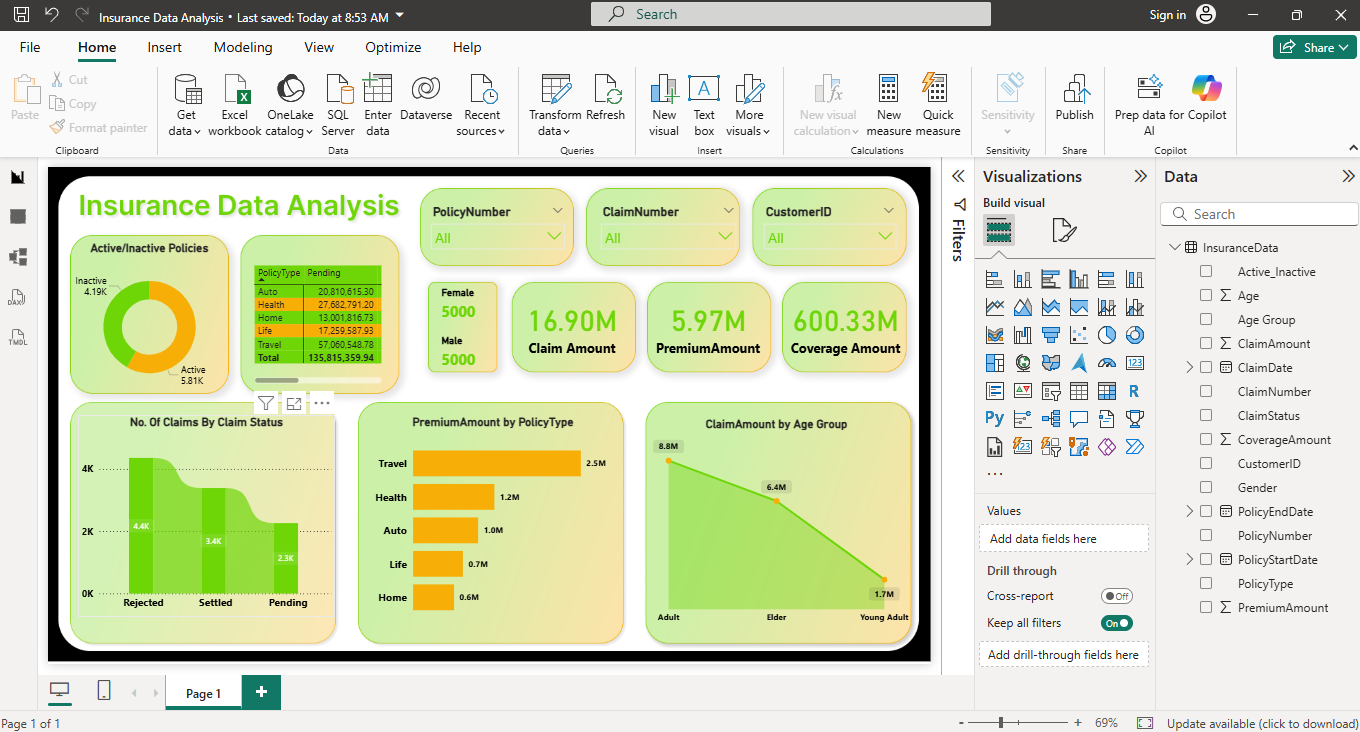

What the dashboard file says about the page in this screenshot:
{"tool":"powerbi","page":{"name":"Page 1","canvas":[1280,720],"ordinal":0},"visuals":[{"type":"slicer","fields":{"Values":["InsuranceData.PolicyNumber"]},"box":[544.9,49.3,214.5,69.6],"z":0},{"type":"slicer","fields":{"Values":["InsuranceData.ClaimNumber"]},"box":[791.3,49.3,215.9,69.6],"z":1000},{"type":"slicer","fields":{"Values":["InsuranceData.CustomerID"]},"box":[1027.5,49.3,211.6,69.6],"z":2000},{"type":"card","fields":{"Values":["Sum(InsuranceData.PremiumAmount)"]},"box":[869.6,171,173.9,118.8],"z":3000},{"type":"card","fields":{"Values":["Sum(InsuranceData.ClaimAmount)"]},"box":[673.9,171,171,118.8],"z":4000},{"type":"card","fields":{"Values":["Sum(InsuranceData.CoverageAmount)"]},"box":[1062.3,171,187,118.8],"z":5000},{"type":"ribbonChart","title":"No. Of  Claims By Claim Status","fields":{"Category":["InsuranceData.ClaimStatus"],"Y":["CountNonNull(InsuranceData.ClaimStatus)"]},"box":[43.5,359.4,372.5,292.8],"z":6000},{"type":"barChart","title":"PremiumAmount by PolicyType","fields":{"Category":["InsuranceData.PolicyType"],"Y":["Sum(InsuranceData.PremiumAmount)"]},"box":[468.1,359.4,353.6,308.7],"z":7000},{"type":"lineChart","title":"ClaimAmount by Age Group","fields":{"Category":["InsuranceData.Age Group"],"Y":["Sum(InsuranceData.ClaimAmount)"]},"box":[831.9,362.3,447.8,308.7],"z":8000},{"type":"donutChart","title":"Active/Inactive Policies","fields":{"Category":["InsuranceData.Active_Inactive"],"Y":["CountNonNull(InsuranceData.Active_Inactive)"]},"box":[33.3,107.2,227.5,230.4],"z":9000},{"type":"pivotTable","fields":{"Values":["Sum(InsuranceData.CoverageAmount)"],"Rows":["InsuranceData.PolicyType"],"Columns":["InsuranceData.ClaimStatus"]},"box":[294.2,137.7,194.2,181.2],"z":10000},{"type":"multiRowCard","fields":{"Values":["InsuranceData.Gender","CountNonNull(InsuranceData.Gender)"]},"box":[565.2,173.9,226.1,144.9],"z":11000}]}

Visuals, with their boxes on the page's 1280x720 design canvas (x1, y1, x2, y2). These are canvas units, not pixel positions in the 1360x732 screenshot, which may show the page scaled, cropped or inside an application window:
slicer - InsuranceData.PolicyNumber: {"left": 545, "top": 49, "right": 759, "bottom": 119}
slicer - InsuranceData.ClaimNumber: {"left": 791, "top": 49, "right": 1007, "bottom": 119}
slicer - InsuranceData.CustomerID: {"left": 1028, "top": 49, "right": 1239, "bottom": 119}
card - Sum(InsuranceData.PremiumAmount): {"left": 870, "top": 171, "right": 1044, "bottom": 290}
card - Sum(InsuranceData.ClaimAmount): {"left": 674, "top": 171, "right": 845, "bottom": 290}
card - Sum(InsuranceData.CoverageAmount): {"left": 1062, "top": 171, "right": 1249, "bottom": 290}
"No. Of  Claims By Claim Status" ribbonChart: {"left": 44, "top": 359, "right": 416, "bottom": 652}
"PremiumAmount by PolicyType" barChart: {"left": 468, "top": 359, "right": 822, "bottom": 668}
"ClaimAmount by Age Group" lineChart: {"left": 832, "top": 362, "right": 1280, "bottom": 671}
"Active/Inactive Policies" donutChart: {"left": 33, "top": 107, "right": 261, "bottom": 338}
pivotTable - Sum(InsuranceData.CoverageAmount) x InsuranceData.PolicyType: {"left": 294, "top": 138, "right": 488, "bottom": 319}
multiRowCard - InsuranceData.Gender x CountNonNull(InsuranceData.Gender): {"left": 565, "top": 174, "right": 791, "bottom": 319}
